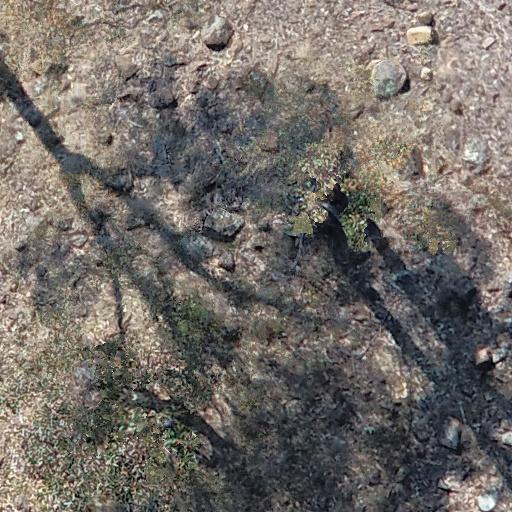stone: (367, 56, 408, 102), (202, 204, 246, 242), (198, 14, 238, 51), (355, 478, 397, 510), (410, 408, 446, 442), (437, 416, 467, 452), (180, 233, 215, 263), (402, 23, 441, 49), (102, 169, 134, 193), (112, 52, 140, 77), (437, 472, 467, 493), (123, 209, 150, 231), (146, 91, 176, 110), (284, 398, 308, 420), (469, 344, 492, 366), (42, 62, 70, 80), (490, 344, 512, 364), (215, 250, 236, 270), (50, 240, 72, 259), (2, 305, 21, 327), (64, 234, 91, 248), (34, 262, 51, 284), (256, 216, 276, 234), (351, 341, 371, 358), (366, 466, 383, 486), (418, 62, 434, 83), (415, 10, 436, 25), (28, 60, 46, 76), (364, 41, 378, 57), (350, 107, 364, 122), (94, 132, 112, 142), (14, 241, 29, 253), (452, 104, 465, 117), (304, 82, 317, 94), (484, 390, 496, 402), (194, 62, 208, 72), (15, 130, 24, 142)
